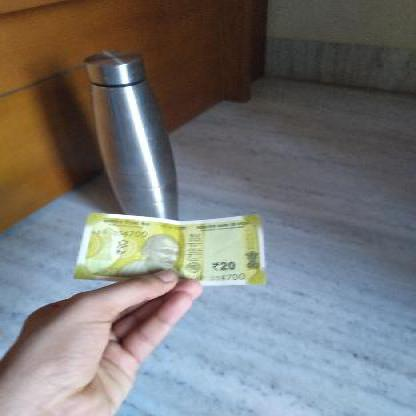New20Front: (80, 208, 269, 283)
